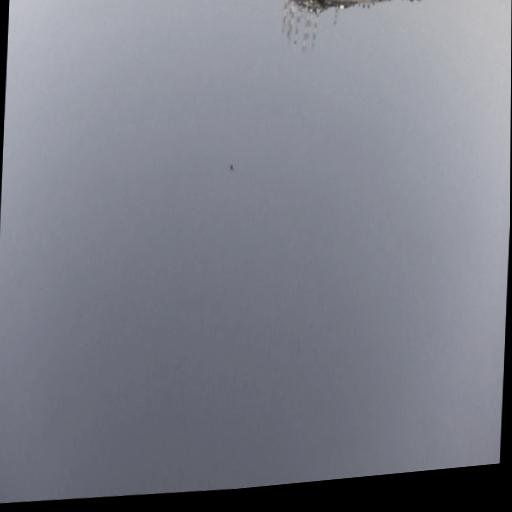drones: (225, 160, 237, 175)
